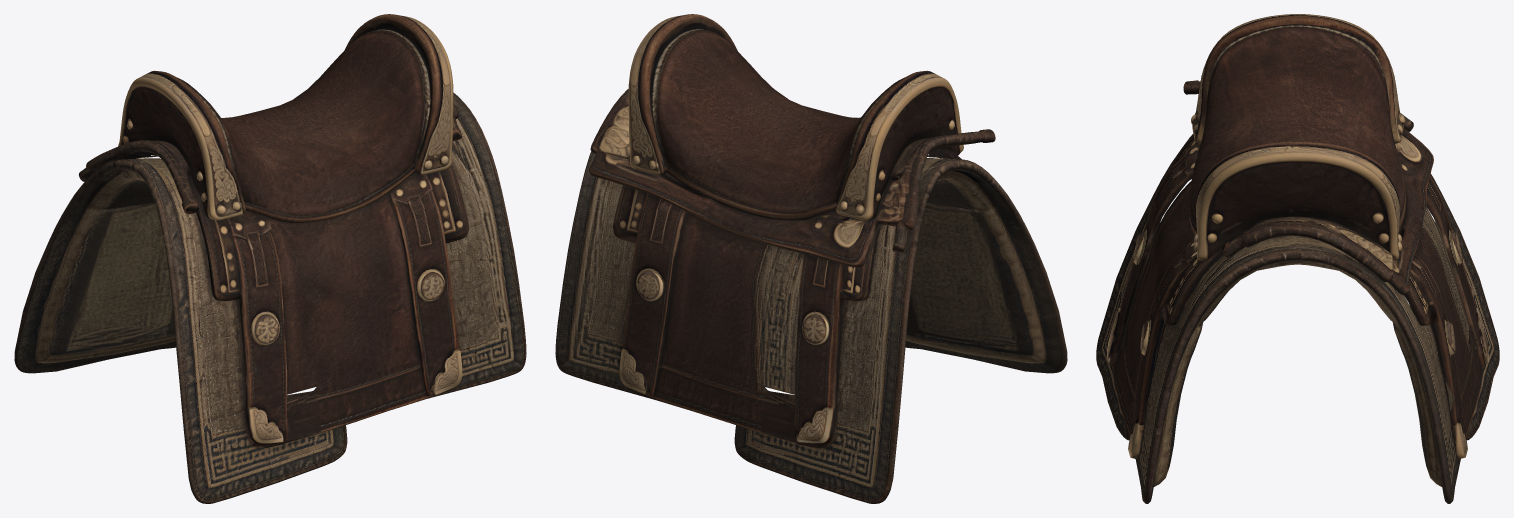
3 renders of one model, left to right at view 1: azimuth 30°, elevation 25°; view 2: azimuth 150°, elevation 25°; view 3: azimuth 270°, elevation 25°, orthographic. The views are drawn at different scales.
Visible parts, largest first — view 1: tripo_8452a8ca_8944_4320_a29c_8b7e4491f12a; view 2: tripo_8452a8ca_8944_4320_a29c_8b7e4491f12a; view 3: tripo_8452a8ca_8944_4320_a29c_8b7e4491f12a.
Part boxes in pixels (x1,y1,x2,y2): tripo_8452a8ca_8944_4320_a29c_8b7e4491f12a: (14, 14, 526, 503); tripo_8452a8ca_8944_4320_a29c_8b7e4491f12a: (555, 14, 1067, 503); tripo_8452a8ca_8944_4320_a29c_8b7e4491f12a: (1096, 14, 1499, 503).
Size of the model in its own units: 0.9995 by 0.9263 by 0.8833.
Materials: 1 (1 with a texture image).
